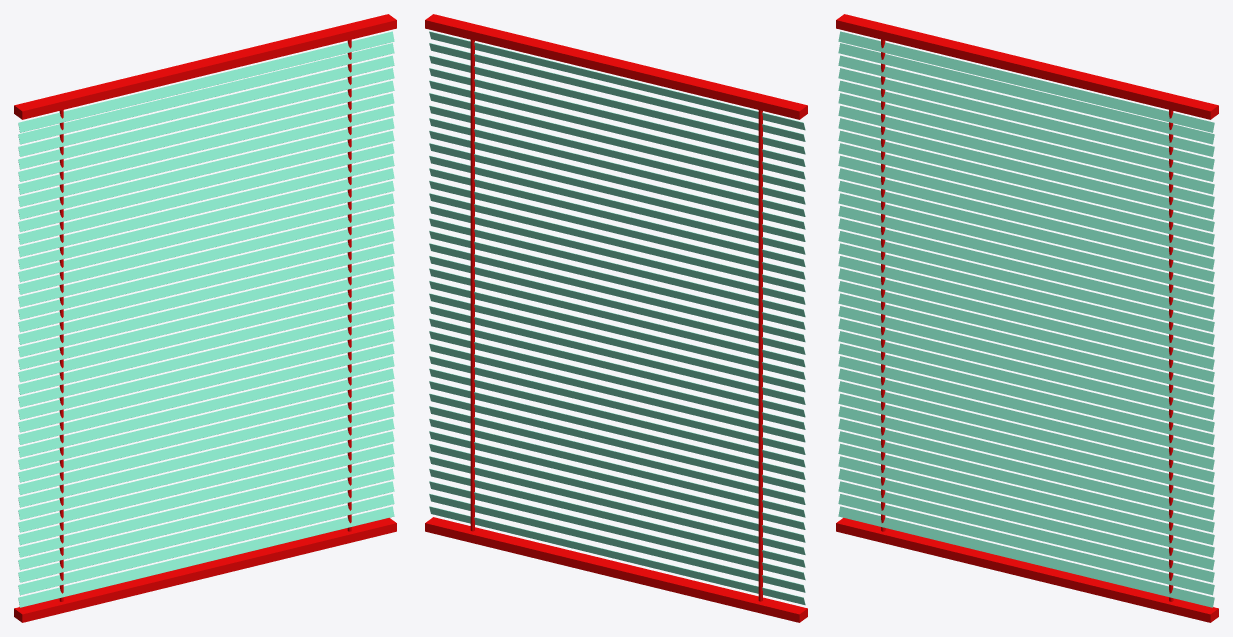
The model's file is A_AH_Blinds_001 - Copie.fbx.
The picture shows the model from 3 angles, left to right: view 1: azimuth 30°, elevation 25°; view 2: azimuth 150°, elevation 25°; view 3: azimuth 330°, elevation 25°; orthographic projection.
Parts seen in each view (by area): view 1: Store; view 2: Store; view 3: Store.
Part boxes in pixels (x1=…): Store: x1=14, y1=14, x2=396, y2=622; Store: x1=425, y1=14, x2=807, y2=622; Store: x1=836, y1=14, x2=1218, y2=622.
Bounding box in the file's own units: 130 × 170 × 4.99.
